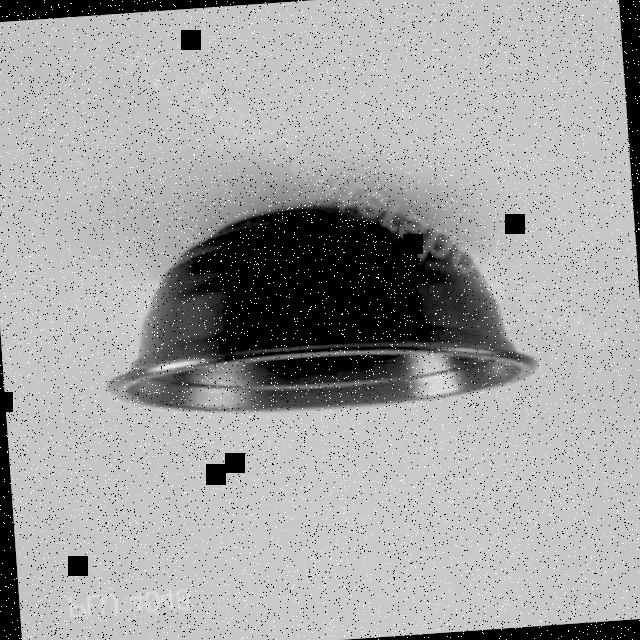plastic_box: (90, 190, 538, 424)
